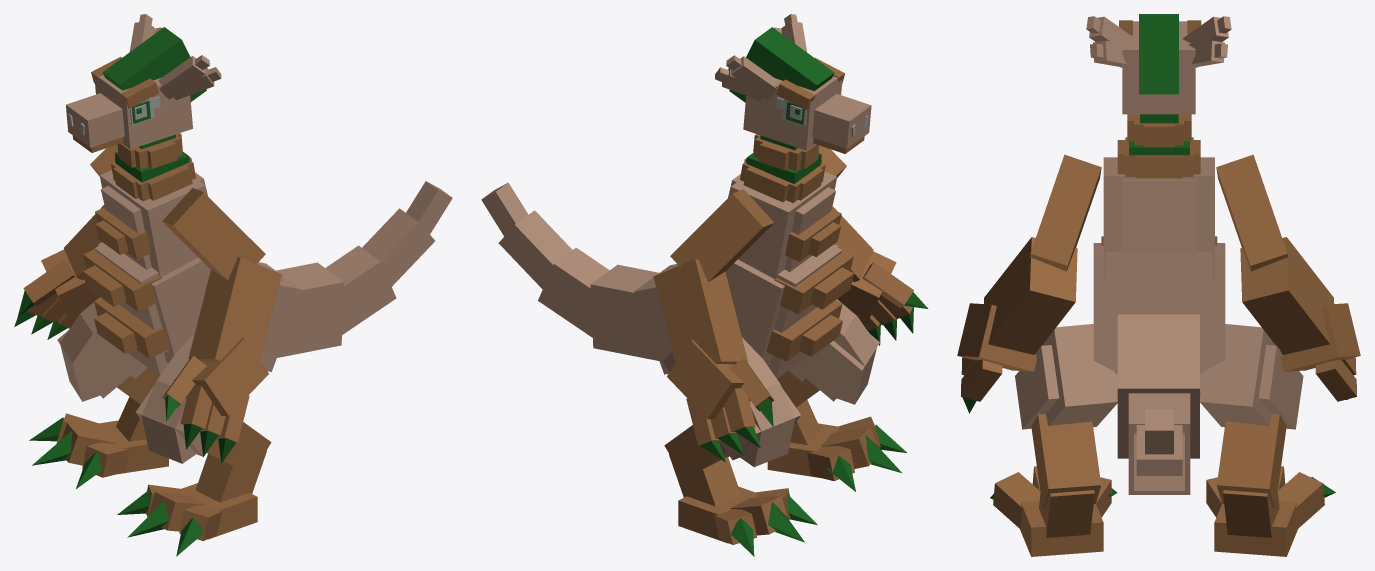
The model's file is lod_sunstorm.obj.
3 renders of one model, left to right at view 1: azimuth 30°, elevation 25°; view 2: azimuth 150°, elevation 25°; view 3: azimuth 270°, elevation 25°, orthographic. The views are drawn at different scales.
Visible parts, largest first — view 1: lod_sunstorm; view 2: lod_sunstorm; view 3: lod_sunstorm.
Part boxes in pixels (<box>): lod_sunstorm: <box>14,14,452,556</box>; lod_sunstorm: <box>481,14,927,556</box>; lod_sunstorm: <box>957,14,1360,556</box>.
Bounding box in the file's own units: 10.88 × 12.87 × 8.88.
